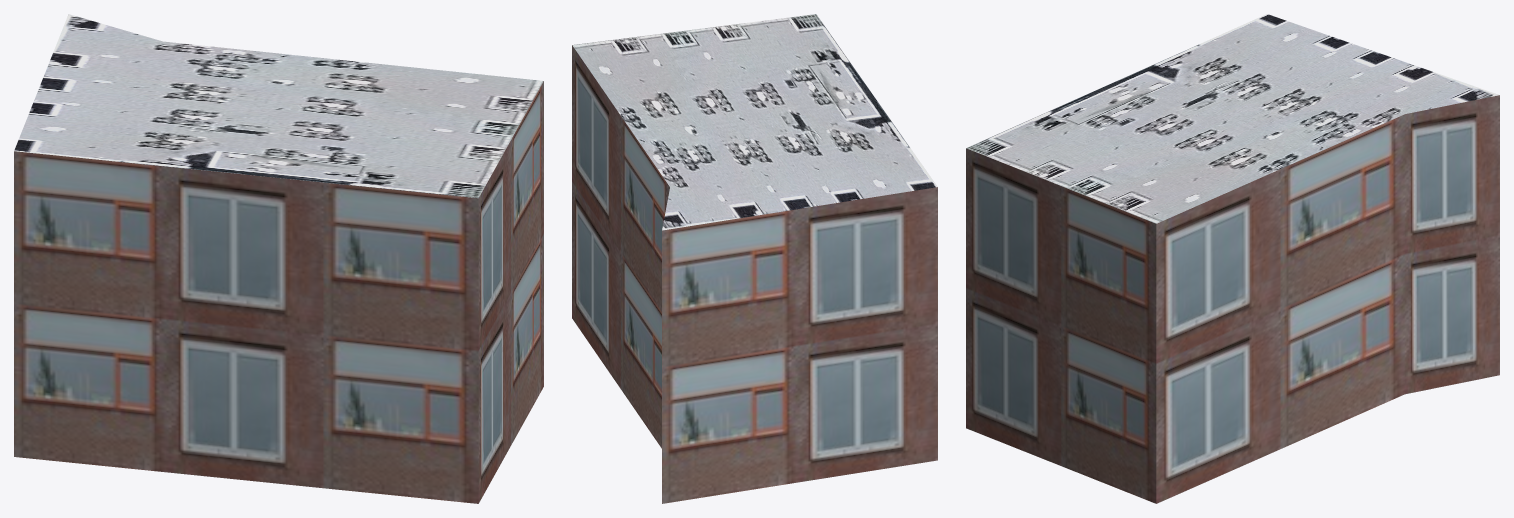
The model's file is ResTex__2896.fbx.
The picture shows the model from 3 angles, left to right: view 1: azimuth 30°, elevation 25°; view 2: azimuth 150°, elevation 25°; view 3: azimuth 270°, elevation 25°; orthographic projection. The views are drawn at different scales.
Parts seen in each view (by area): view 1: CityEngineMaterial_19_m, CityEngineMaterial_2_m; view 2: CityEngineMaterial_19_m, CityEngineMaterial_2_m; view 3: CityEngineMaterial_19_m, CityEngineMaterial_2_m.
Boxes of the visible parts, box(x1,y1,x2,y2) form: CityEngineMaterial_19_m: box(14, 81, 543, 503); CityEngineMaterial_2_m: box(14, 14, 543, 198); CityEngineMaterial_19_m: box(572, 45, 937, 503); CityEngineMaterial_2_m: box(572, 14, 937, 230); CityEngineMaterial_19_m: box(966, 95, 1499, 503); CityEngineMaterial_2_m: box(966, 14, 1499, 223).
Bounding box in the file's own units: 9.64 × 6 × 10.36.
2 materials, 2 textured.
